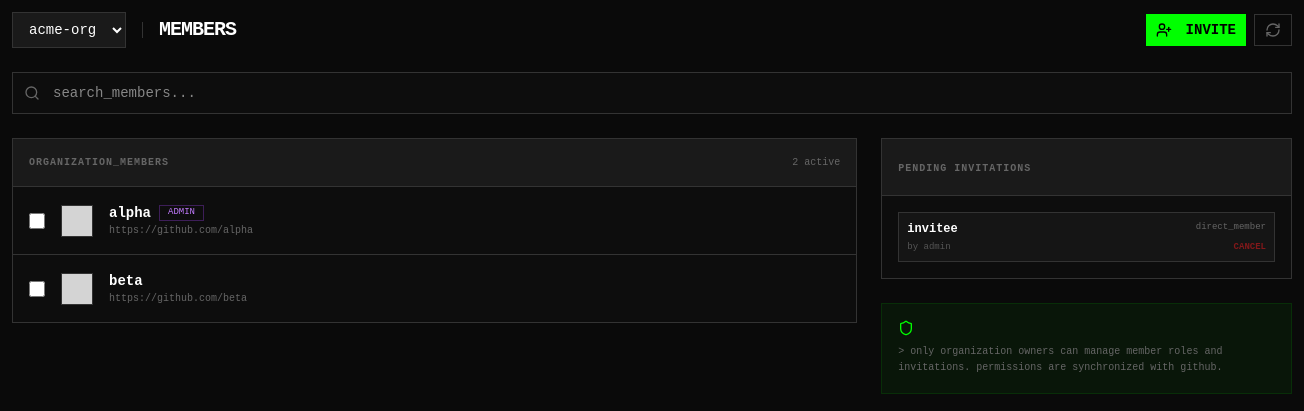
Test: MembersPageClient › filters members based on search input
expect the text "alpha" is shown: met, box top-left (109, 203), bottom-right (151, 223)
Type "beta" into the field with placeholder "search_members..." at (652,93), box top-left (12, 72), bottom-right (1292, 114)
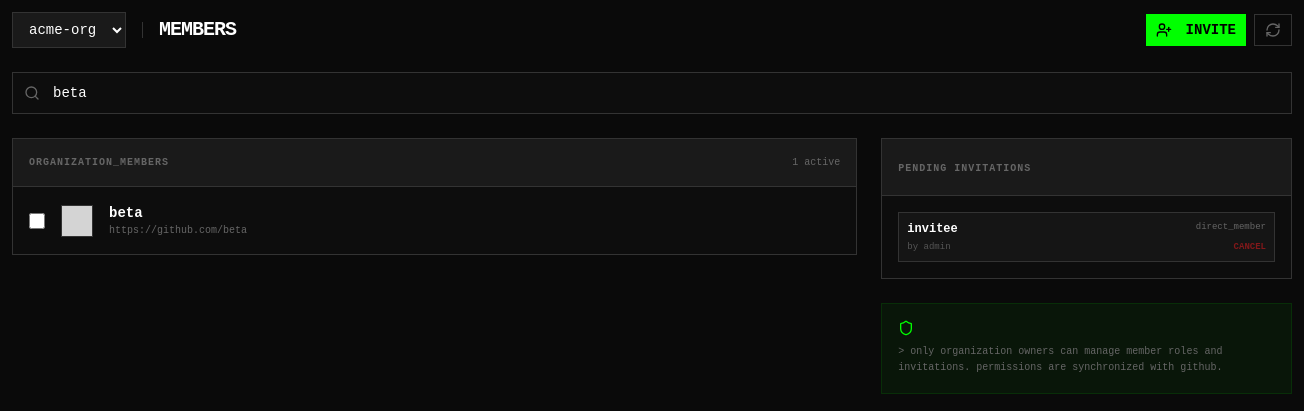
expect the text "beta" is shown: met, box top-left (109, 203), bottom-right (143, 223)
expect the text "alpha" is gone: met
